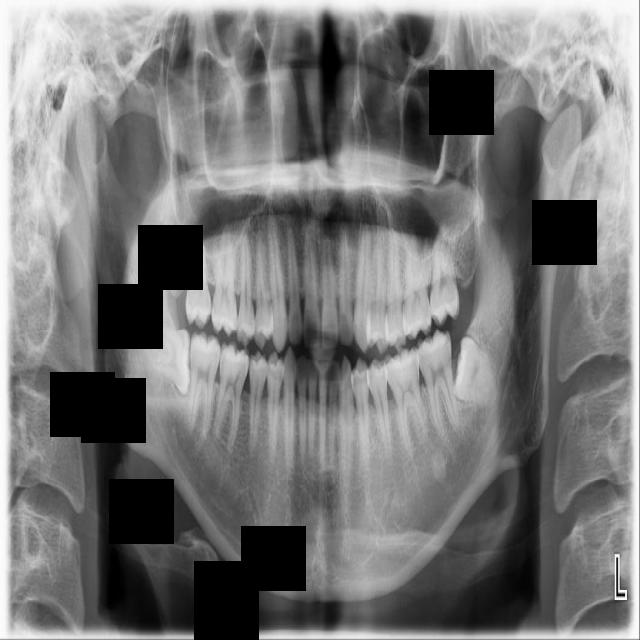52: (430, 278, 434, 295), (453, 275, 455, 286)
73: (614, 564, 620, 577)
BioHorizons Implant: (430, 217, 459, 327)
Biomet 3i Implant: (450, 335, 505, 411)
Blue Sky Bio Implant: (414, 326, 461, 440)
Caries: (185, 232, 212, 329)
Implant: (185, 330, 223, 437)
Keystone Dental Implant: (148, 326, 191, 395)
